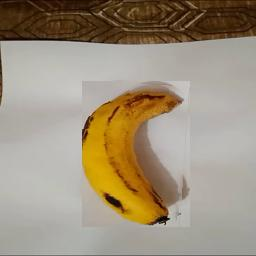Banana Semifresh: (83, 81, 191, 227)
